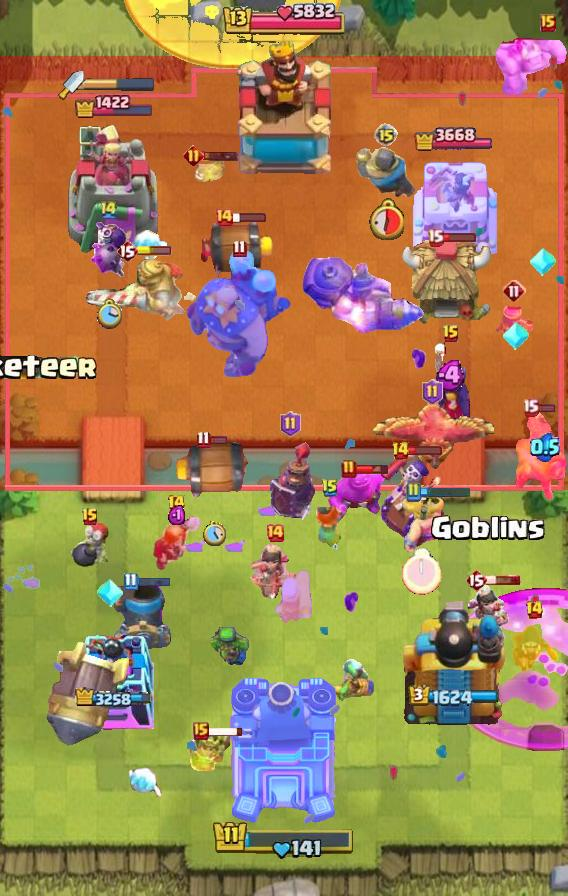archer: (494, 306, 534, 344)
bandit: (510, 622, 558, 674)
bar: (419, 486, 472, 498), (202, 150, 239, 162), (485, 574, 521, 586), (231, 211, 267, 223), (136, 575, 171, 587), (355, 463, 390, 475), (207, 726, 244, 737), (407, 445, 443, 456), (441, 232, 477, 243), (136, 246, 172, 256), (209, 435, 228, 445), (537, 403, 556, 413)
bar-level: (502, 279, 526, 303), (374, 123, 398, 147), (280, 411, 301, 437), (422, 379, 443, 405), (465, 568, 487, 592), (116, 239, 138, 263), (183, 145, 204, 166), (99, 199, 119, 220), (265, 523, 285, 543), (214, 207, 234, 227), (525, 600, 544, 620), (167, 494, 186, 514), (391, 441, 410, 461), (81, 507, 99, 527), (321, 478, 339, 498), (442, 324, 460, 344), (522, 398, 539, 417), (427, 228, 444, 247), (405, 482, 421, 502), (341, 459, 357, 479), (193, 722, 209, 740), (540, 14, 556, 32), (123, 572, 138, 591), (196, 430, 211, 449), (232, 239, 247, 258)
barbarian-barrel: (174, 440, 254, 500), (197, 218, 277, 278)
bomber: (69, 522, 111, 572)
bomber-evolution: (89, 222, 129, 280)
cannoneer-tower: (397, 595, 509, 731)
clock: (402, 548, 442, 595), (368, 198, 404, 240), (96, 298, 122, 330), (203, 521, 226, 546)
dagger-duchess-tower: (67, 122, 161, 256)
dagger-duchess-tower-bar: (84, 77, 156, 91)
elite-barbarian: (400, 496, 444, 552)
elixir: (435, 360, 468, 391), (530, 432, 560, 462), (168, 504, 185, 525)
elixir-golem-mid: (326, 468, 390, 522)
firecracker: (272, 567, 314, 625)
firecracker-evolution: (512, 411, 568, 503)
golemite: (493, 37, 568, 97)
ice-spirit: (124, 762, 166, 800), (125, 228, 167, 266)
ice-spirit-evolution-symbol: (95, 578, 125, 608), (501, 321, 531, 351), (528, 247, 558, 277)
king-tower: (228, 676, 340, 826), (228, 41, 340, 181)
king-tower-bar: (212, 819, 356, 861), (221, 0, 347, 40)
knight: (354, 144, 418, 200)
lava-pup: (192, 159, 226, 185)
little-prince: (189, 731, 237, 775)
mortar: (113, 585, 173, 649)
princess: (249, 541, 301, 599), (464, 584, 512, 646)
queen-tower: (409, 154, 497, 256), (73, 623, 155, 731)
spear-goblin: (328, 658, 378, 702), (211, 627, 253, 667)
tower-bar: (414, 124, 492, 155), (408, 684, 499, 707), (74, 94, 155, 119), (75, 687, 153, 710)
valkyrie: (149, 512, 203, 572), (311, 501, 349, 553)
witch: (428, 341, 474, 429)
